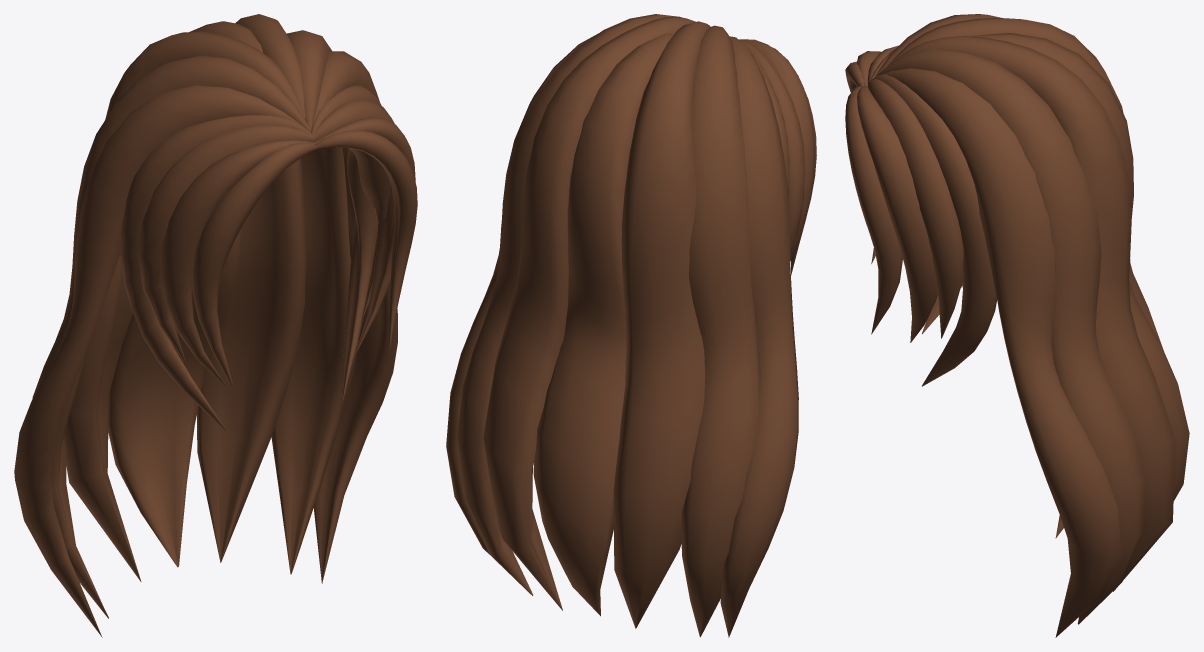
File: uploads_files_5529985_Anime+Hair.fbx
3 renders of one model, left to right at view 1: azimuth 30°, elevation 25°; view 2: azimuth 150°, elevation 25°; view 3: azimuth 270°, elevation 25°, orthographic. The views are drawn at different scales.
Visible parts, largest first — view 1: Hair13, Hair10, Hair11, Hair15, Hair14, Hair9, Hair12, Hair8, Hair4, Hair6, Hair2, Hair7 (+3 smaller); view 2: Hair14, Hair15, Hair12, Hair13, Hair10, Hair11, Hair9, Hair6, Hair4, Hair8; view 3: Hair9, Hair11, Hair13, Hair7, Hair5, Hair3, Hair15, Hair1, Hair14, Hair12.
Part boxes in pixels (x1,y1,x2,y2): Hair13: (197, 14, 305, 562); Hair10: (14, 85, 300, 637); Hair11: (271, 30, 358, 574); Hair15: (108, 21, 263, 567); Hair14: (64, 31, 304, 581); Hair9: (313, 51, 397, 583); Hair12: (32, 55, 310, 618); Hair8: (120, 115, 312, 431); Hair4: (160, 139, 314, 387); Hair6: (138, 124, 313, 364); Hair2: (192, 142, 316, 390); Hair7: (311, 85, 381, 403); Hair14: (613, 21, 710, 628); Hair15: (533, 33, 674, 616); Hair12: (681, 25, 759, 637); Hair13: (483, 17, 695, 610); Hair10: (720, 36, 798, 637); Hair11: (457, 14, 680, 595); Hair9: (446, 34, 597, 553); Hair6: (738, 39, 805, 253); Hair4: (744, 40, 814, 260); Hair8: (752, 55, 789, 197); Hair9: (882, 68, 1121, 637); Hair11: (876, 49, 1145, 624); Hair13: (893, 36, 1175, 591); Hair7: (871, 74, 996, 386); Hair5: (867, 79, 963, 338); Hair3: (857, 86, 937, 342); Hair15: (972, 33, 1189, 500); Hair1: (845, 86, 902, 334); Hair14: (888, 18, 1163, 350); Hair12: (875, 14, 1001, 76).
Bounding box in the file's own units: 7.29 × 11.52 × 6.43.
